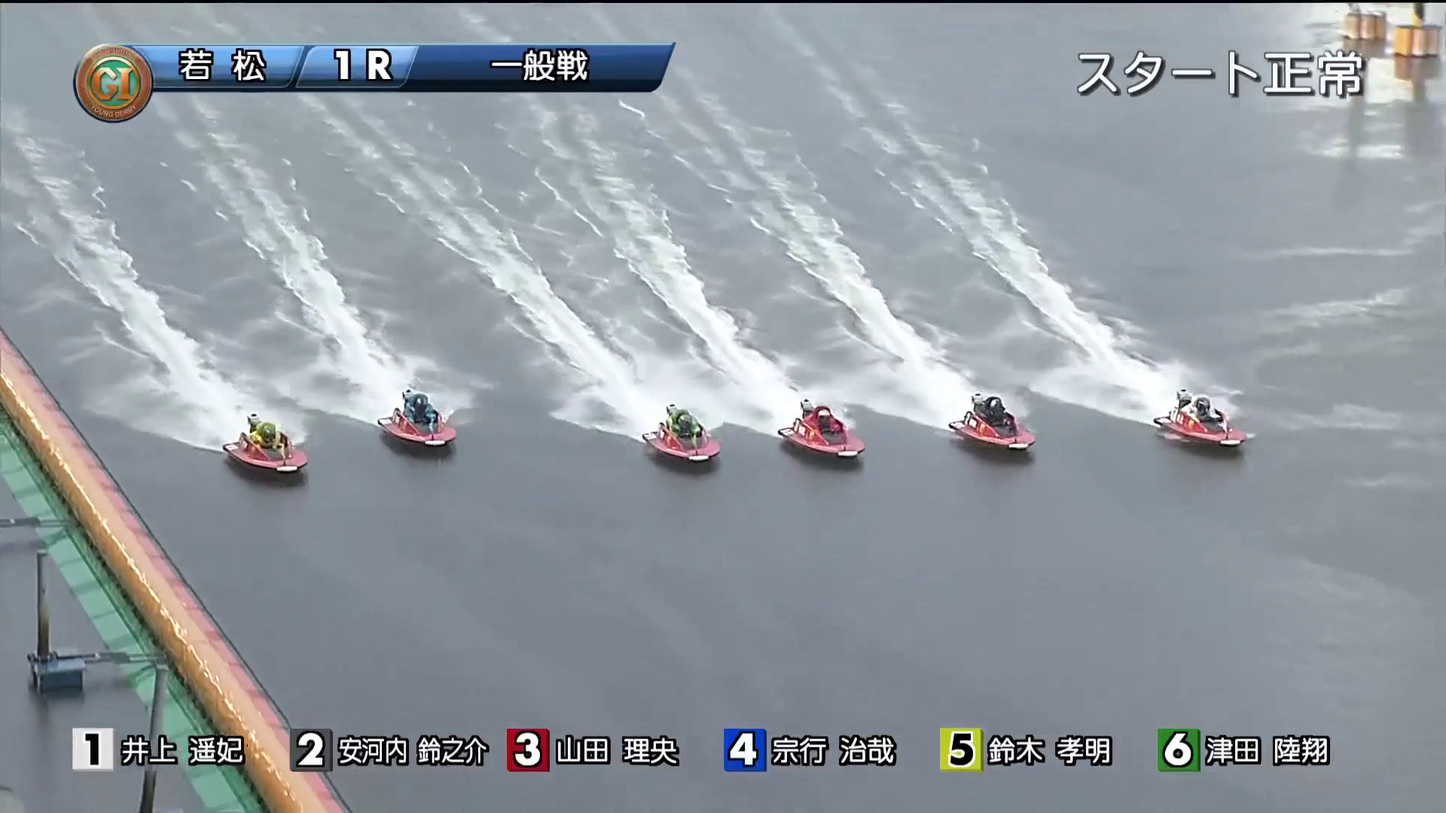１号艇: (1170, 403, 1255, 444)
２号艇: (962, 410, 1052, 448)
３号艇: (793, 425, 883, 467)
４号艇: (634, 413, 739, 456)
５号艇: (351, 384, 472, 439)
６号艇: (231, 418, 331, 475)
